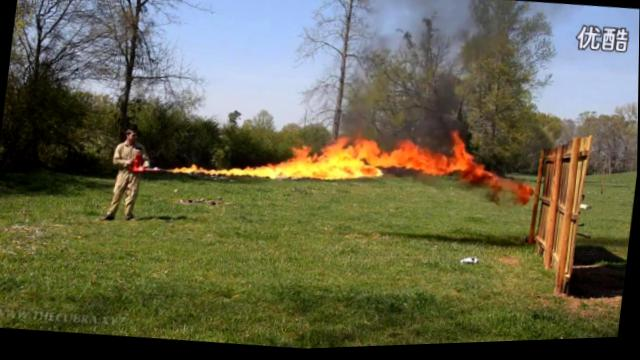fire: (169, 162, 254, 182), (313, 153, 355, 185), (275, 157, 315, 182), (419, 153, 448, 179), (354, 161, 385, 183), (397, 145, 422, 170), (346, 140, 377, 159), (365, 155, 401, 171), (448, 159, 473, 176), (255, 164, 278, 182), (324, 138, 348, 155), (452, 133, 466, 159), (291, 147, 309, 161), (473, 167, 489, 181)
